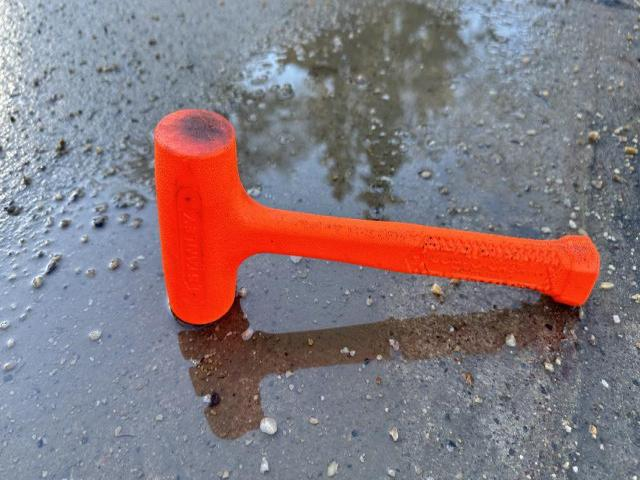hammer: (153, 108, 602, 322)
